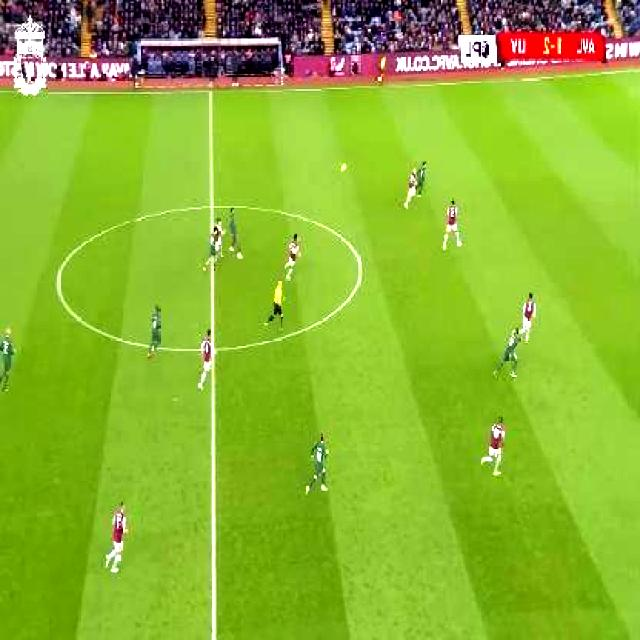halfcircle_bottom: (206, 334, 226, 361)
halfcircle_top: (202, 192, 222, 217)
midline_top_intersection: (202, 80, 218, 100)
